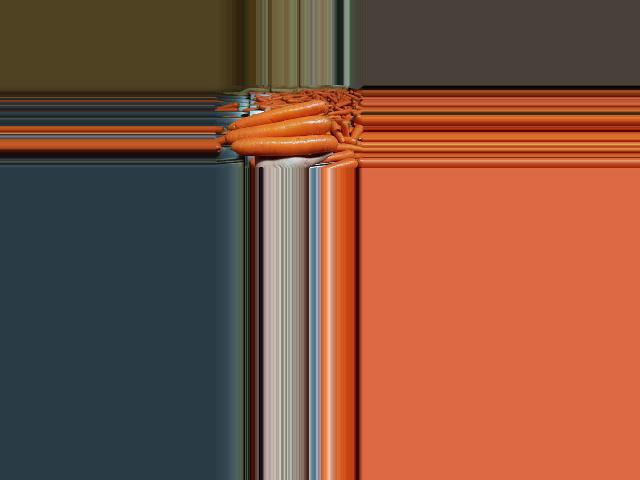carrot: (227, 129, 339, 155)
